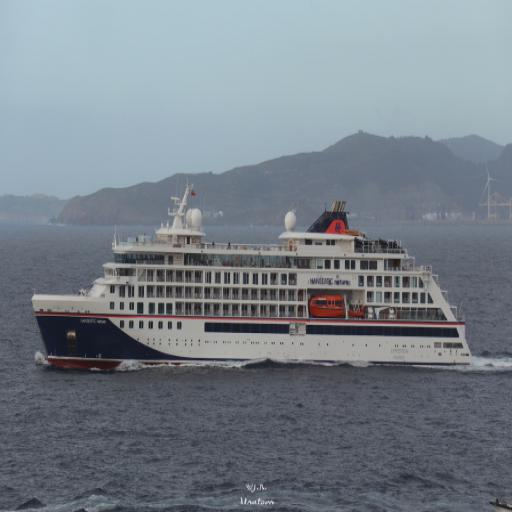cruises: (28, 171, 478, 375)
